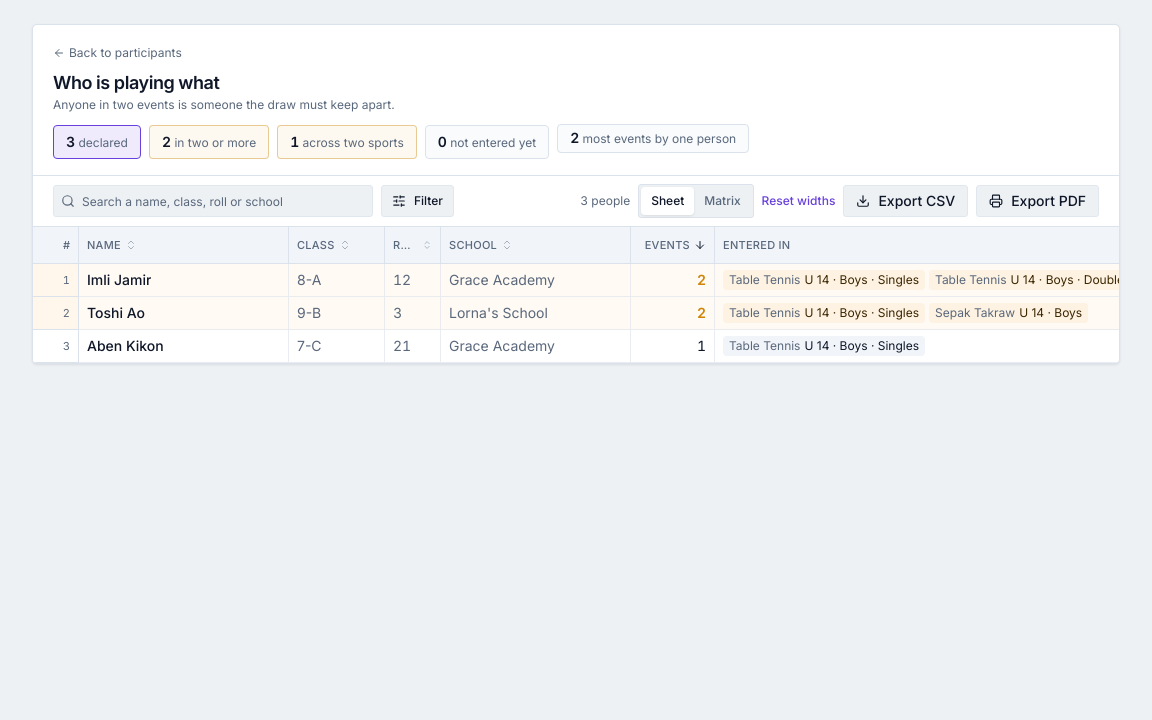
clears everything from inside the drawer
Click the button with test id "stat-multi".
click(209, 142)  # box [149,125,269,159]
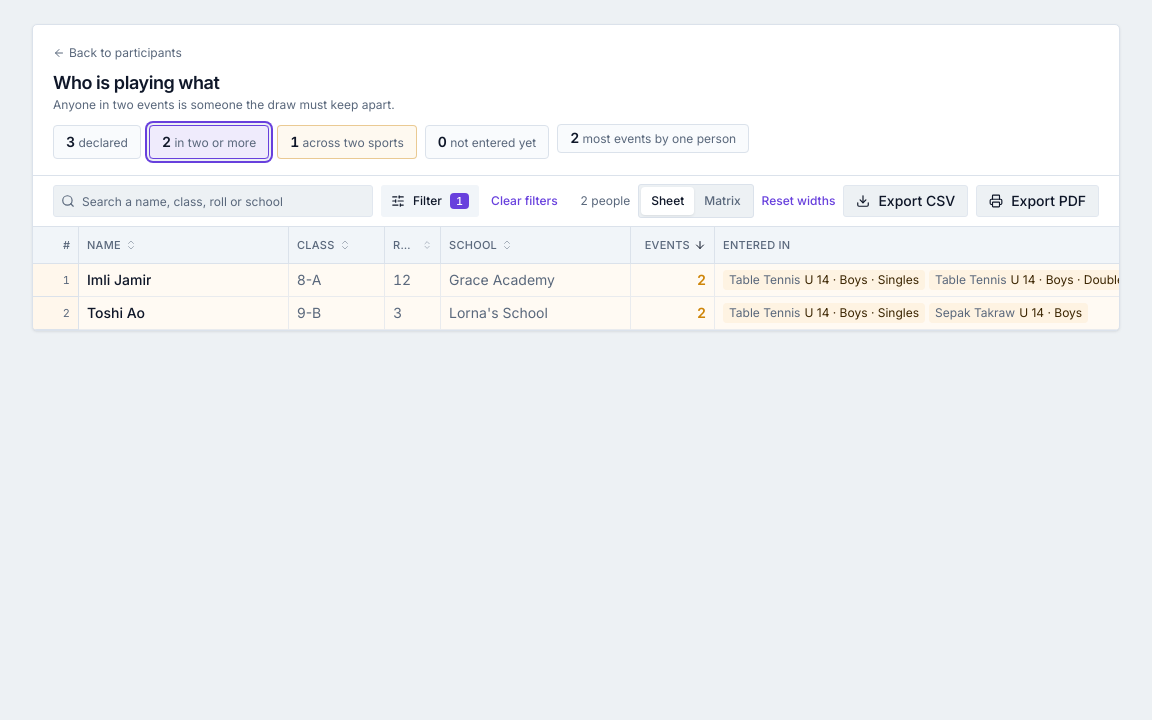
Expected: the row with test id "participation-m3" is gone
Click the button with test id "participation-open-filters".
click(430, 201)  # box [381,185,479,217]
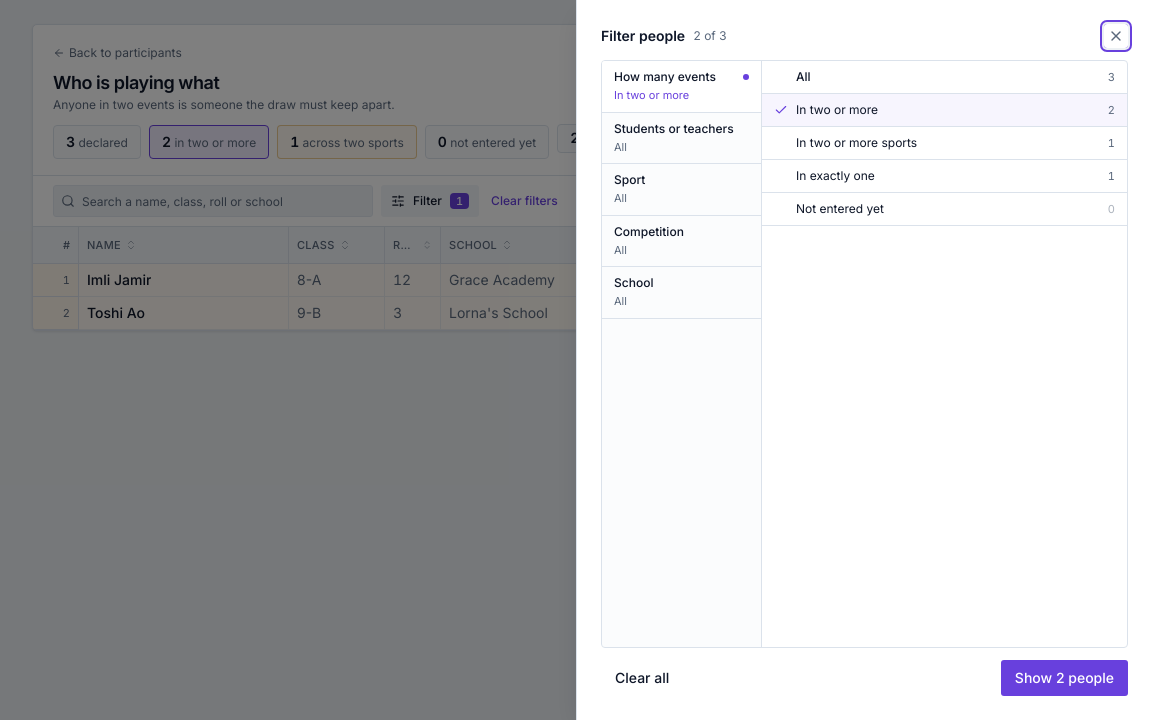
Click the button with test id "participation-drawer-clear".
click(642, 678)  # box [601,660,683,696]
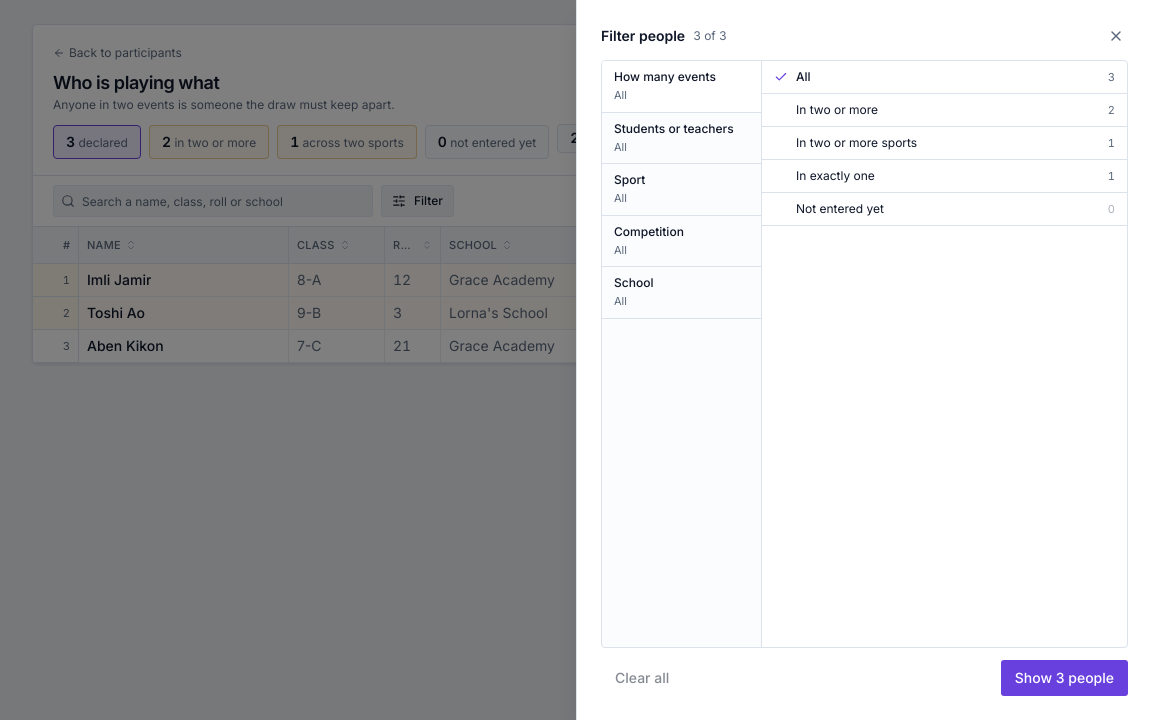
Expected: the row with test id "participation-m3" is shown, [33,330,1119,363]
